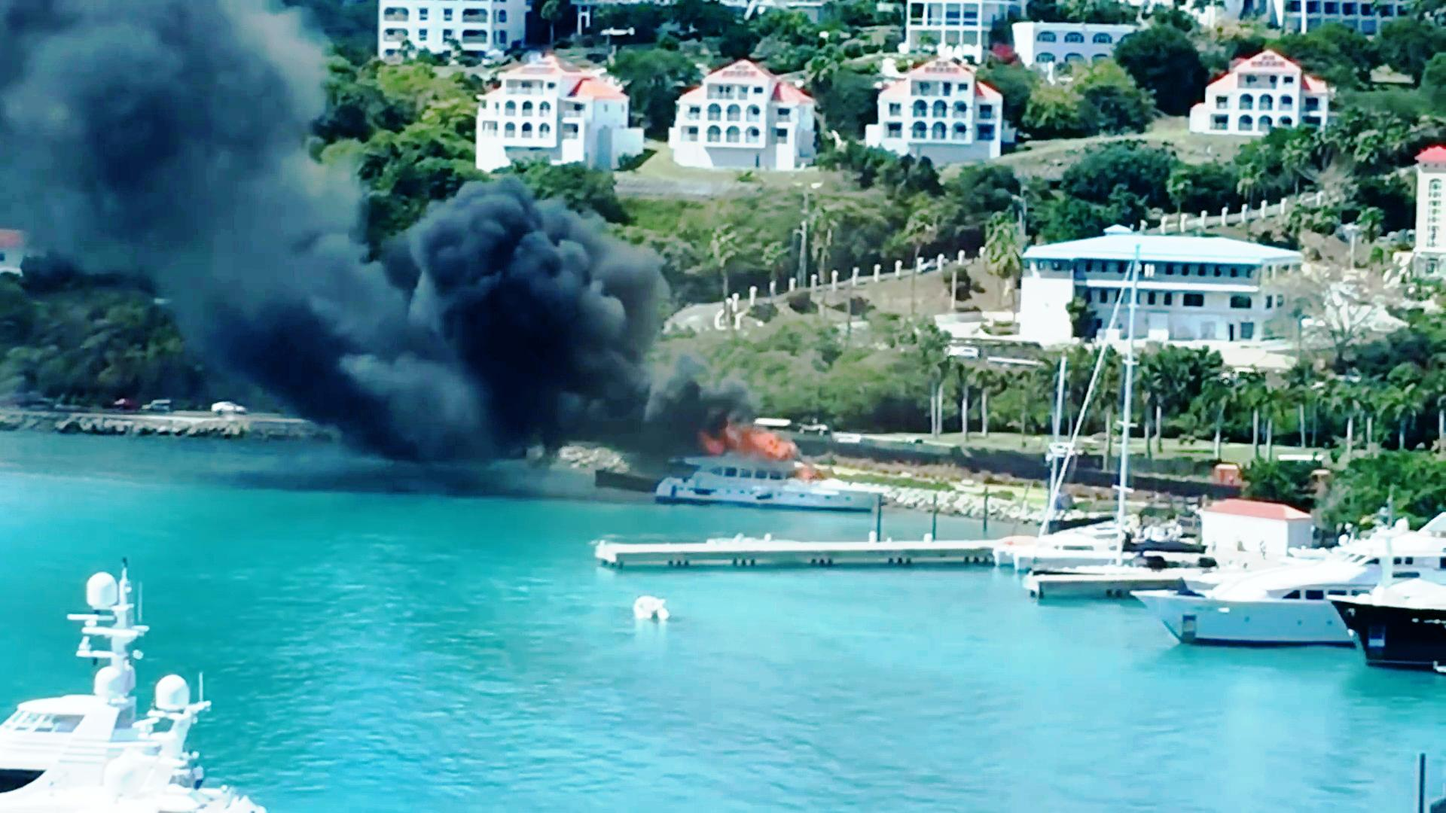smoke: (0, 0, 319, 213), (143, 190, 424, 410), (407, 187, 661, 428), (653, 381, 748, 454)
